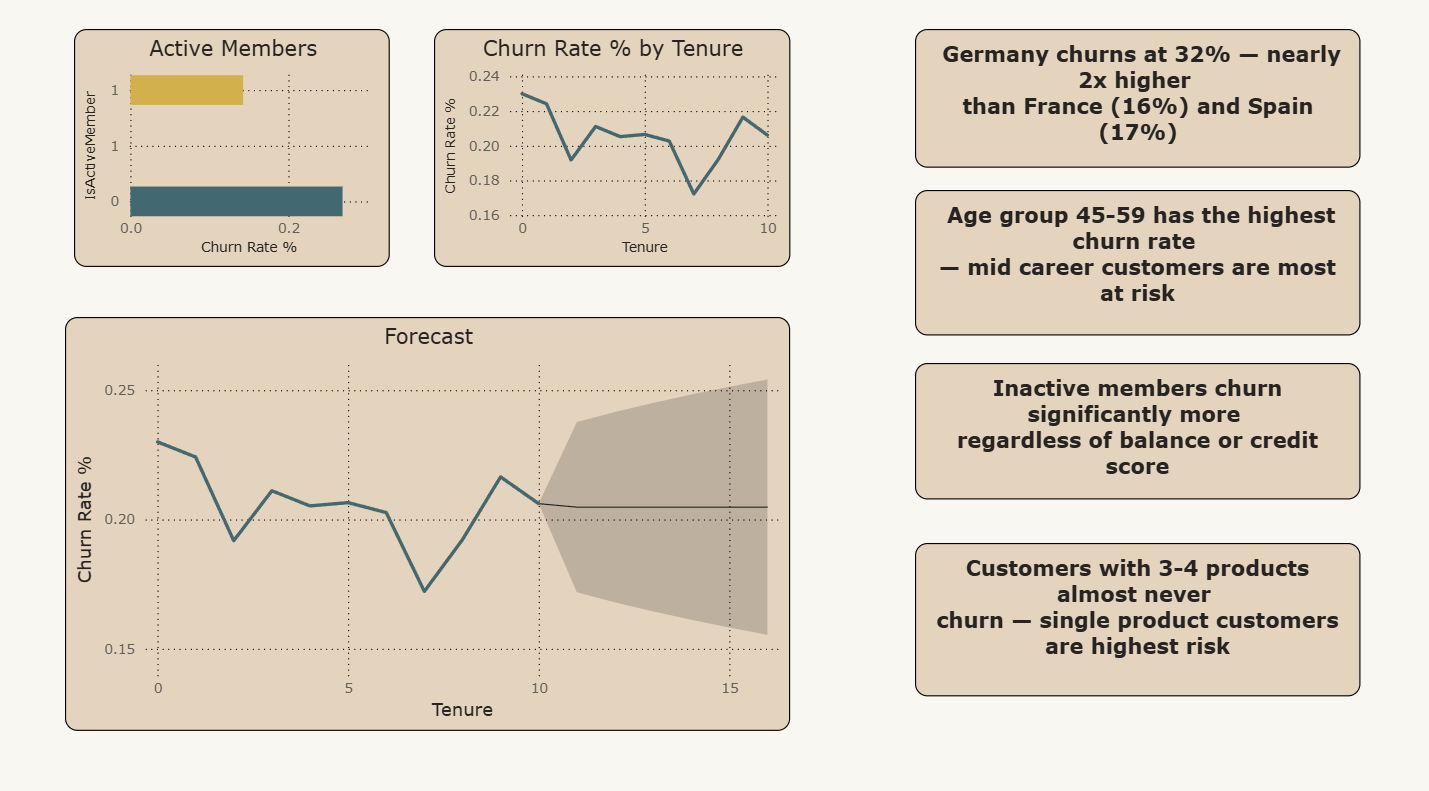

Layout of this report page (visuals, bound fields, positions):
{"tool":"powerbi","page":{"name":"Risk & Insights","canvas":[1280,720],"ordinal":2},"visuals":[{"type":"clusteredBarChart","title":" Active Members","fields":{"Category":["Churn_Modelling.IsActiveMember"],"Y":["_Measures.Churn Rate %"]},"box":[67.4,30.1,280.2,211],"z":0},{"type":"lineChart","fields":{"Category":["Churn_Modelling.Tenure"],"Y":["_Measures.Churn Rate %"]},"box":[386.6,30.1,315.7,211],"z":1},{"type":"lineChart","title":"Forecast","fields":{"Category":["Churn_Modelling.Tenure"],"Y":["_Measures.Churn Rate %"]},"box":[59.4,285.5,642.9,367.1],"z":2},{"type":"textbox","box":[813.1,30.1,395.5,123.3],"z":3},{"type":"textbox","box":[813.1,172.9,394.6,129.5],"z":4},{"type":"textbox","box":[813.1,326.3,394.6,121.5],"z":5},{"type":"textbox","box":[813.1,485.9,394.6,135.7],"z":6}]}

Visuals, with their boxes in screenshot pixels (x1, y1, x2, y2), scaled from the page's 1280x720 canvas onto the 1429x791 screenshot:
" Active Members" clusteredBarChart: (75, 33, 388, 265)
lineChart - Churn_Modelling.Tenure x _Measures.Churn Rate %: (432, 33, 784, 265)
"Forecast" lineChart: (66, 314, 784, 717)
textbox: (908, 33, 1349, 169)
textbox: (908, 190, 1348, 332)
textbox: (908, 358, 1348, 492)
textbox: (908, 534, 1348, 683)
